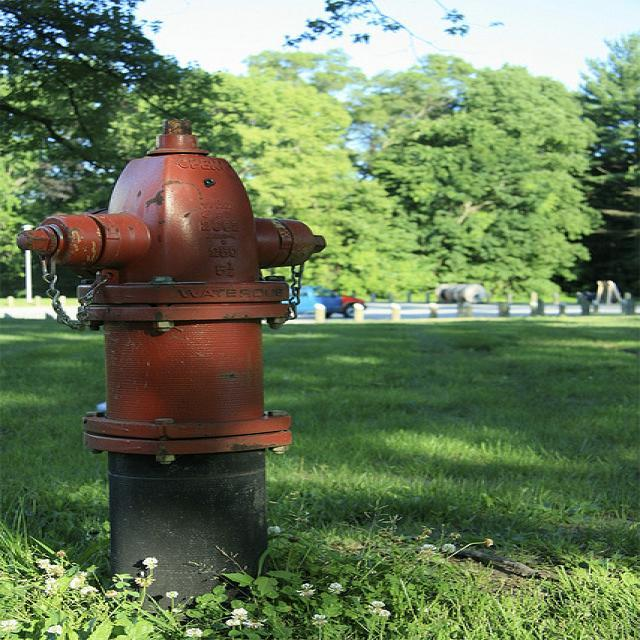fire_hydrant: (21, 115, 327, 611)
